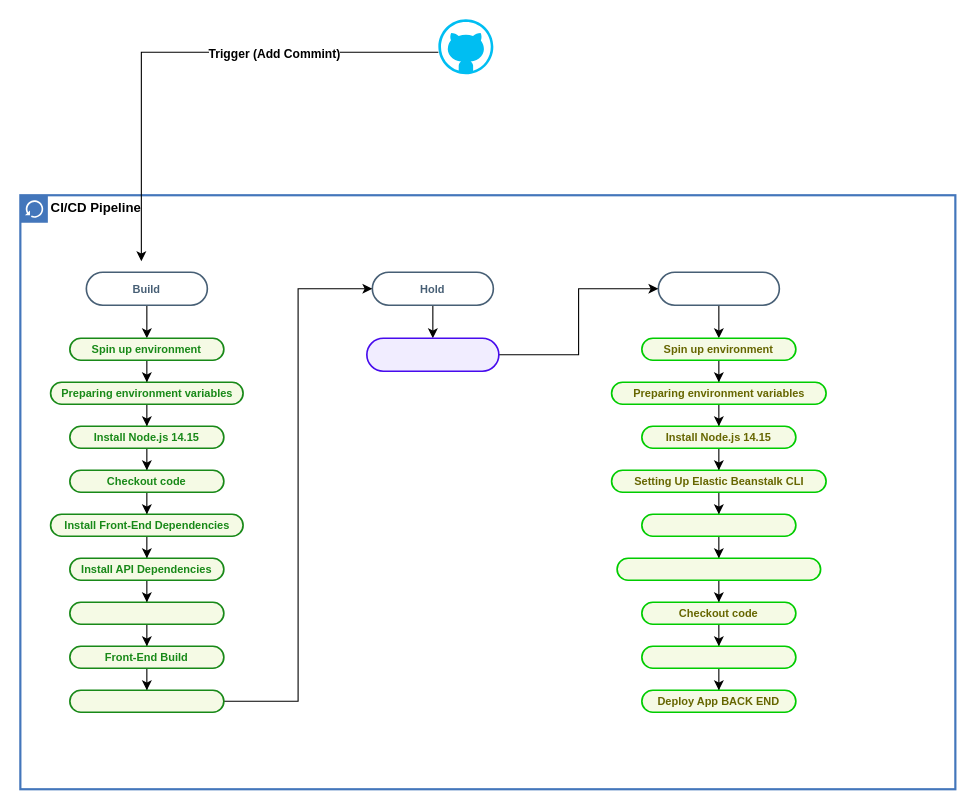
Image size: 975x809. Some labels were removed from this diagram. The centre of each missing label's shape, as x and y in pixels:
API Build: [146,701]
Approved (Manually): [432,354]
Configure AWS Access Key ID: [718,569]
Deploy: [718,288]
Deploy App FRONT_END: [718,657]
Front-End Lint: [146,613]
Install AWS CLI - latest: [718,525]
Project Repo: [465,46]
